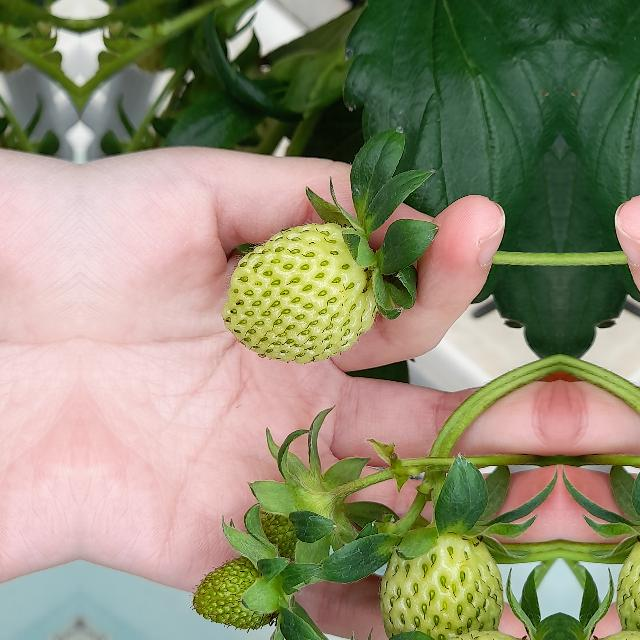Health_25: (221, 222, 377, 364), (381, 532, 507, 640), (188, 560, 302, 640), (254, 494, 328, 556), (613, 532, 640, 640)
